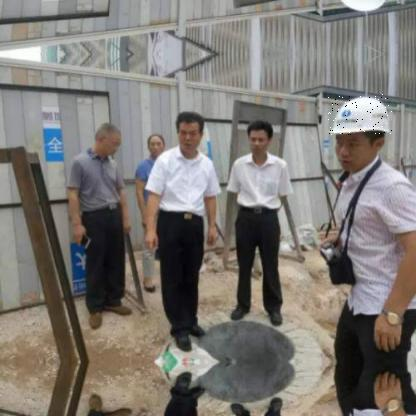safetyhelmet: (328, 95, 393, 136)
